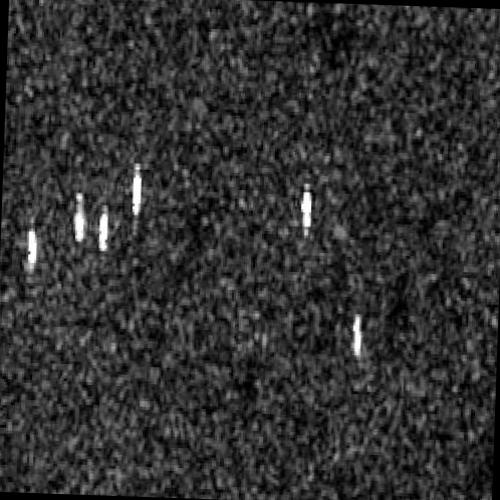ship: (73, 189, 85, 244), (130, 163, 142, 217), (300, 183, 312, 235), (97, 206, 109, 252), (351, 312, 362, 359), (26, 226, 37, 269)
